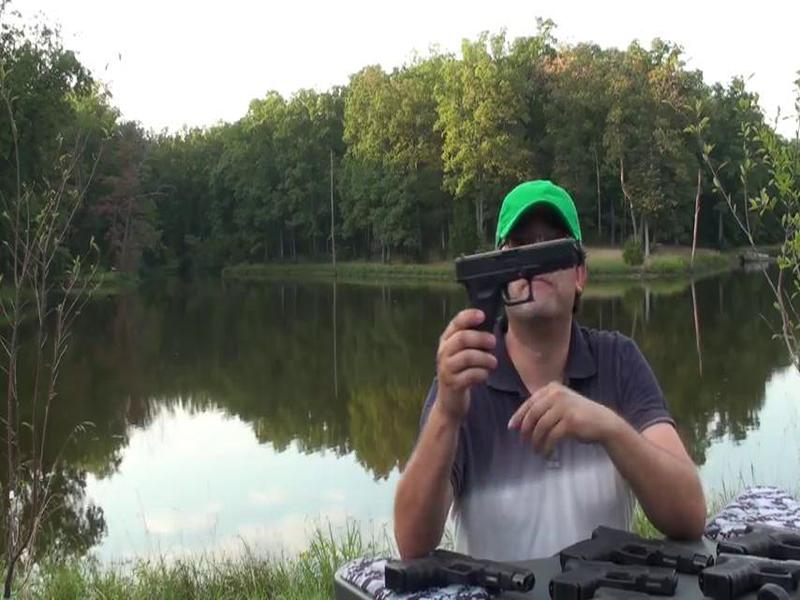Pistola: (403, 220, 589, 371)
